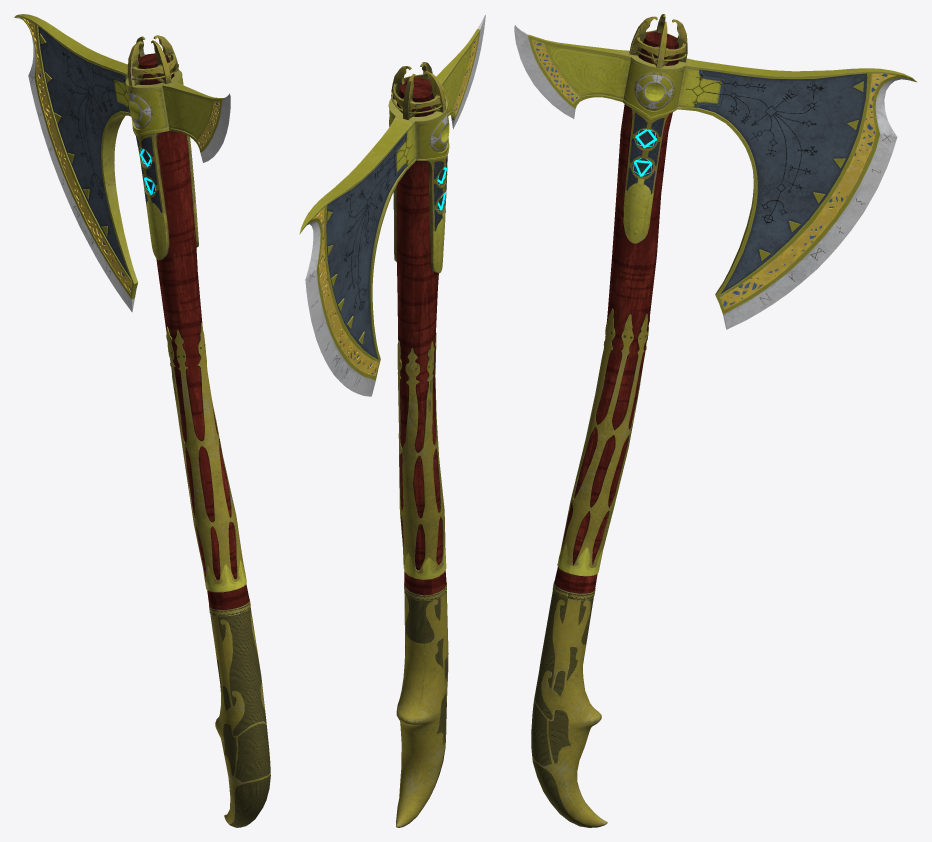
File: Leviathan.fbx
3 views of the same model, side by side, from view 1: azimuth 30°, elevation 25°; view 2: azimuth 150°, elevation 25°; view 3: azimuth 270°, elevation 25° (orthographic). The views are drawn at different scales.
Parts seen in each view (by area): view 1: LeviathanAxe, Cube.104, Axe.003, Cube.096, Cube.058, Cube.057; view 2: LeviathanAxe, Cube.104, Axe.003, Cube.096, Cube.058, Cube.057; view 3: Cube.104, LeviathanAxe, Axe.003, Cube.058, Cube.096, Cube.057, Cube.102.
Boxes of the visible parts, x1,y1,x2,y2 form: LeviathanAxe: [138, 53, 270, 827]; Cube.104: [14, 14, 230, 312]; Axe.003: [166, 323, 246, 592]; Cube.096: [136, 133, 198, 260]; Cube.058: [23, 18, 131, 293]; Cube.057: [127, 35, 178, 86]; LeviathanAxe: [396, 77, 448, 827]; Cube.104: [299, 15, 485, 396]; Axe.003: [397, 333, 446, 579]; Cube.096: [393, 156, 447, 273]; Cube.058: [313, 207, 378, 375]; Cube.057: [391, 62, 445, 119]; Cube.104: [514, 25, 916, 329]; LeviathanAxe: [531, 32, 678, 827]; Axe.003: [557, 308, 649, 576]; Cube.058: [719, 73, 895, 309]; Cube.096: [623, 108, 668, 243]; Cube.057: [629, 14, 687, 68]; Cube.102: [532, 39, 579, 103].
Bounding box in the file's own units: 12.78 × 106 × 49.47.
12 materials, 12 textured.
